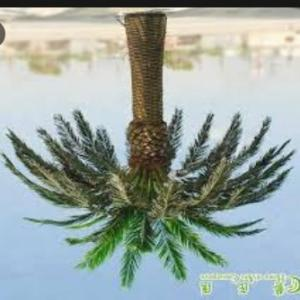palm tree: (0, 9, 296, 289)
